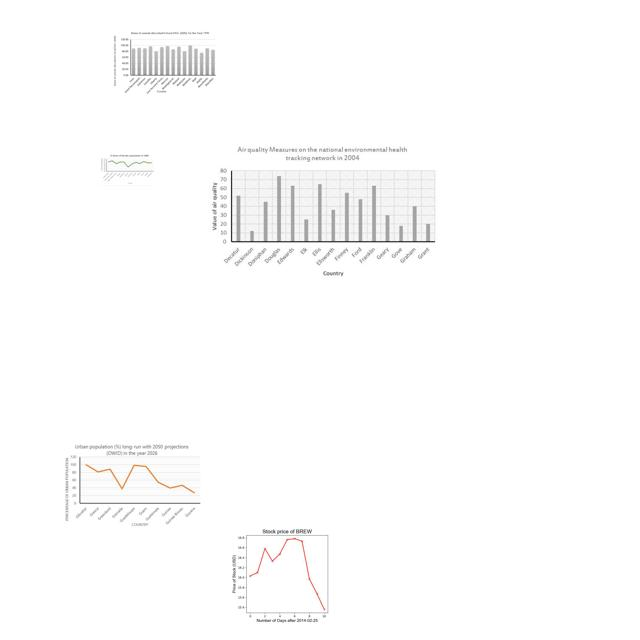Graph: (206, 142, 441, 278), (218, 523, 353, 624), (63, 442, 203, 527), (111, 31, 219, 95), (100, 153, 155, 186)
